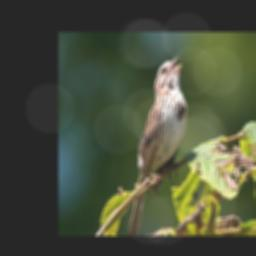Sparrow: (128, 53, 188, 234)
